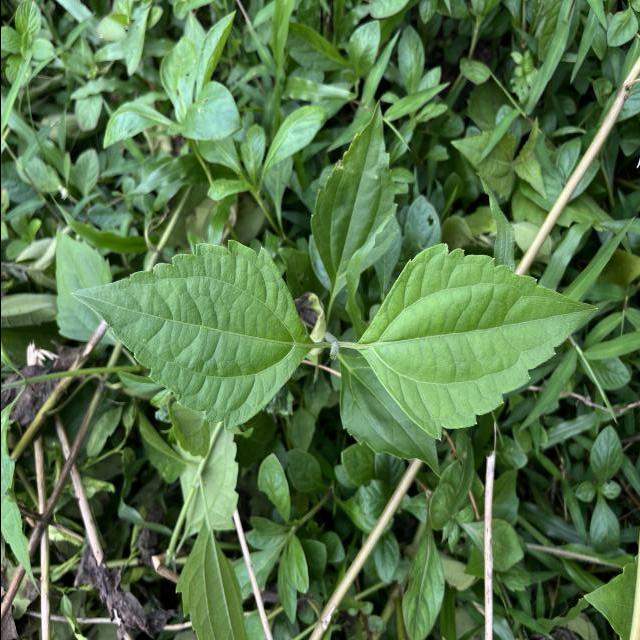Chromolaena odorata: (66, 235, 315, 436), (354, 240, 600, 443)
